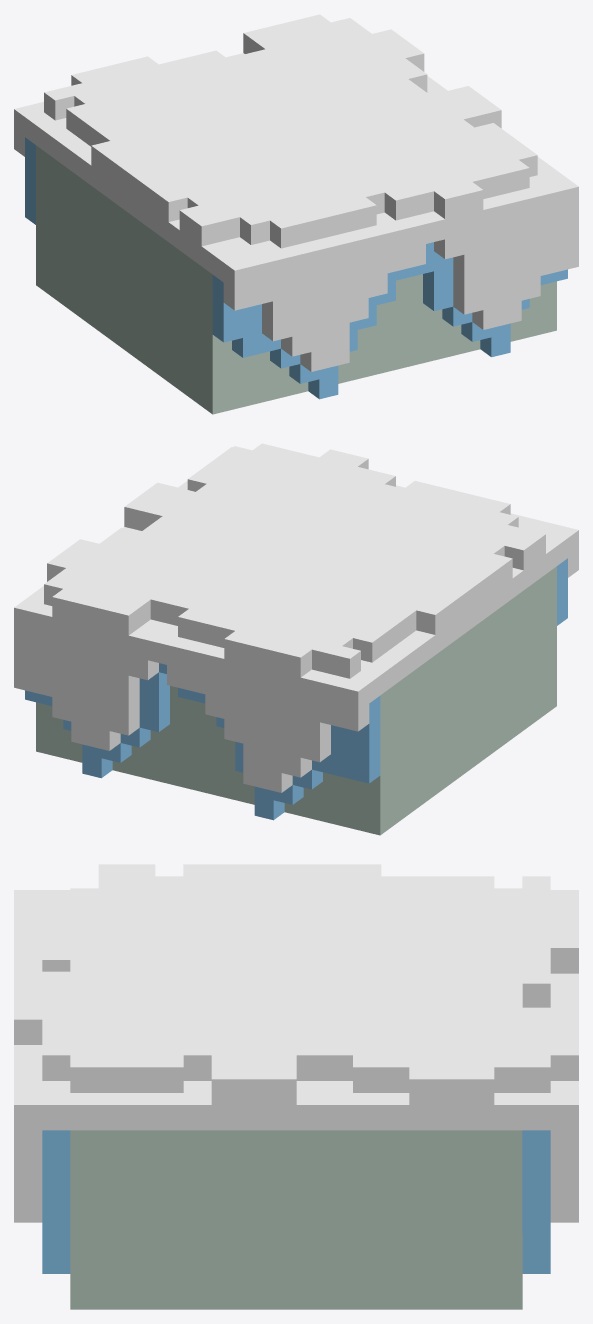
File: Floors-19.obj
3 renders of one model, top to bottom at view 1: azimuth 30°, elevation 25°; view 2: azimuth 150°, elevation 25°; view 3: azimuth 270°, elevation 25°, orthographic. The views are drawn at different scales.
Bounding box in the file's own units: 1.8 × 0.9 × 2.
